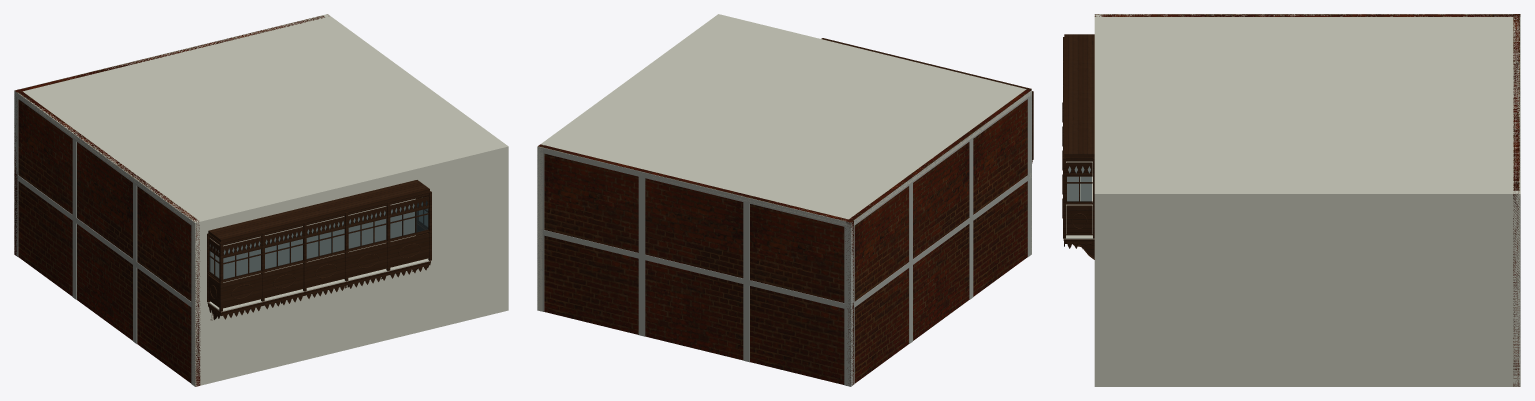
The model's file is building.glb.
3 views of the same model, side by side, from view 1: azimuth 30°, elevation 25°; view 2: azimuth 150°, elevation 25°; view 3: azimuth 270°, elevation 25° (orthographic). The views are drawn at different scales.
Visible parts, largest first — view 1: roof/house:0/roof_slab#0001, house:0/edge0/z0/house:0/edge0/z0/wall_0_0, house:0/edge3/z0/house:0/edge3/z0/wall_0_0, balcony/sample/balcony_cover#0001, house:0/edge2/z0/house:0/edge2/z0/wall_0_0, house:0/edge3/z0/house:0/edge3/z0/beam_0_0, house:0/edge1/z0/house:0/edge1/z0/wall_0_0, house:0/edge3/z0/house:0/edge3/z0/beam_1_0, balcony/sample/balcony_panel#0004, balcony/sample/balcony_panel#0006, balcony/sample/balcony_panel#0003, balcony/sample/balcony_panel#0005 (+4 smaller); view 2: roof/house:0/roof_slab#0001, house:0/edge2/z0/house:0/edge2/z0/wall_0_0, house:0/edge3/z0/house:0/edge3/z0/wall_0_0, house:0/edge1/z0/house:0/edge1/z0/wall_0_0, house:0/edge2/z0/house:0/edge2/z0/beam_1_0, house:0/edge2/z0/house:0/edge2/z0/beam_0_0, house:0/edge3/z0/house:0/edge3/z0/beam_0_0, house:0/edge0/z0/house:0/edge0/z0/wall_0_0, house:0/edge3/z0/house:0/edge3/z0/beam_1_0, house:0/edge2/z0/house:0/edge2/z0/column_1_0, house:0/edge2/z0/house:0/edge2/z0/column_2_0, house:0/edge2/z0/house:0/edge2/z0/column_1_1 (+4 smaller); view 3: house:0/edge1/z0/house:0/edge1/z0/wall_0_0, roof/house:0/roof_slab#0001, balcony/sample/balcony_cover#0001, house:0/edge0/z0/house:0/edge0/z0/wall_0_0, house:0/edge2/z0/house:0/edge2/z0/wall_0_0, house:0/edge3/z0/house:0/edge3/z0/wall_0_0, balcony/sample/balcony_platform#0001, balcony/sample/balcony_panel#0007.
Boxes of the visible parts, x1,y1,x2,y2 form: roof/house:0/roof_slab#0001: (15,14,508,226); house:0/edge0/z0/house:0/edge0/z0/wall_0_0: (192,144,508,386); house:0/edge3/z0/house:0/edge3/z0/wall_0_0: (17,89,200,386); balcony/sample/balcony_cover#0001: (208,180,429,242); house:0/edge2/z0/house:0/edge2/z0/wall_0_0: (14,15,324,255); house:0/edge3/z0/house:0/edge3/z0/beam_0_0: (15,174,194,308); house:0/edge1/z0/house:0/edge1/z0/wall_0_0: (323,14,508,311); house:0/edge3/z0/house:0/edge3/z0/beam_1_0: (14,91,195,227); balcony/sample/balcony_panel#0004: (306,253,345,287); balcony/sample/balcony_panel#0006: (390,233,429,267); balcony/sample/balcony_panel#0003: (264,263,303,297); balcony/sample/balcony_panel#0005: (348,243,387,277); roof/house:0/roof_slab#0001: (541,15,1031,226); house:0/edge2/z0/house:0/edge2/z0/wall_0_0: (538,144,853,384); house:0/edge3/z0/house:0/edge3/z0/wall_0_0: (845,89,1030,383); house:0/edge1/z0/house:0/edge1/z0/wall_0_0: (537,15,722,311); house:0/edge2/z0/house:0/edge2/z0/beam_1_0: (538,147,851,228); house:0/edge2/z0/house:0/edge2/z0/beam_0_0: (537,229,851,310); house:0/edge3/z0/house:0/edge3/z0/beam_0_0: (851,172,1031,309); house:0/edge0/z0/house:0/edge0/z0/wall_0_0: (715,14,1031,253); house:0/edge3/z0/house:0/edge3/z0/beam_1_0: (850,90,1031,227); house:0/edge2/z0/house:0/edge2/z0/column_1_0: (844,309,851,386); house:0/edge2/z0/house:0/edge2/z0/column_2_0: (638,177,645,254); house:0/edge2/z0/house:0/edge2/z0/column_1_1: (844,227,851,304); house:0/edge1/z0/house:0/edge1/z0/wall_0_0: (1094,191,1520,386); roof/house:0/roof_slab#0001: (1094,14,1520,198); balcony/sample/balcony_cover#0001: (1064,34,1094,157); house:0/edge0/z0/house:0/edge0/z0/wall_0_0: (1094,14,1101,386); house:0/edge2/z0/house:0/edge2/z0/wall_0_0: (1513,14,1519,386); house:0/edge3/z0/house:0/edge3/z0/wall_0_0: (1094,14,1520,16); balcony/sample/balcony_platform#0001: (1064,161,1094,239); balcony/sample/balcony_panel#0007: (1066,205,1092,235).
Size of the model in its own units: 12 by 6 by 12.91.
5 materials, 2 textured.
